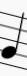G: (1, 9, 25, 70)
